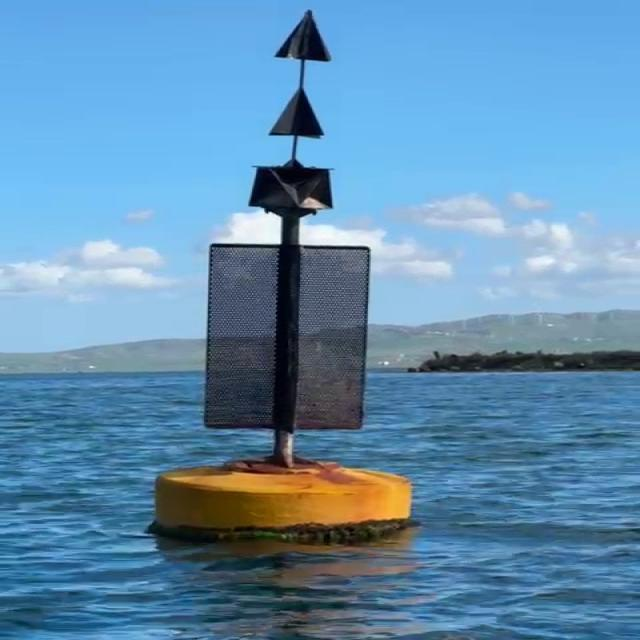marque: (149, 5, 427, 535)
